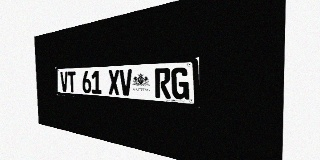1: (91, 70, 101, 94)
6: (82, 71, 91, 93)
G: (171, 67, 189, 100)
R: (155, 68, 171, 99)
T: (68, 71, 76, 92)
V: (119, 69, 132, 96), (60, 72, 68, 92)
X: (108, 70, 120, 95)
